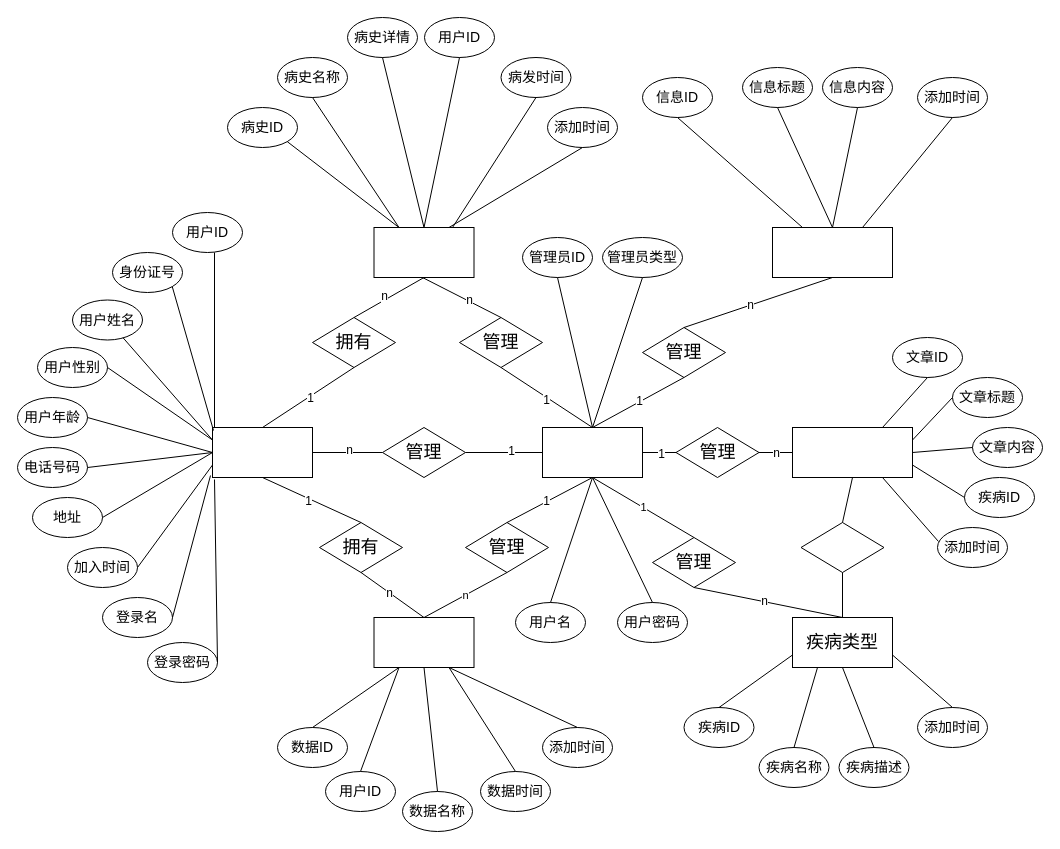
Some shapes in this 1060 by 849 pixel diagram are drawn without their labels. The shapes that lost their labels are listed below. From the top down, each one's box as (x1, y1, x2, y2) in pixels, then its label:
(373, 226, 474, 278): 病史
(772, 226, 892, 278): 健康教育信息
(212, 426, 312, 478): 用户
(542, 426, 642, 478): 管理员
(792, 426, 912, 478): 疾病科普文章
(800, 522, 884, 572): 包含
(373, 616, 474, 668): 健康数据
